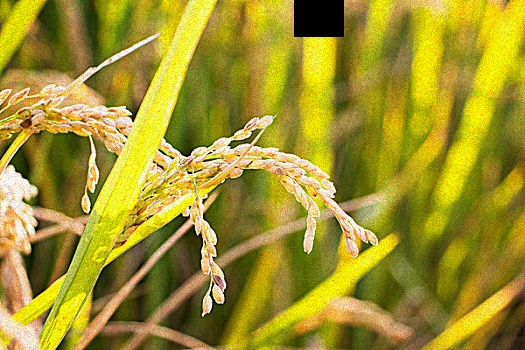rice: (140, 111, 376, 320)
